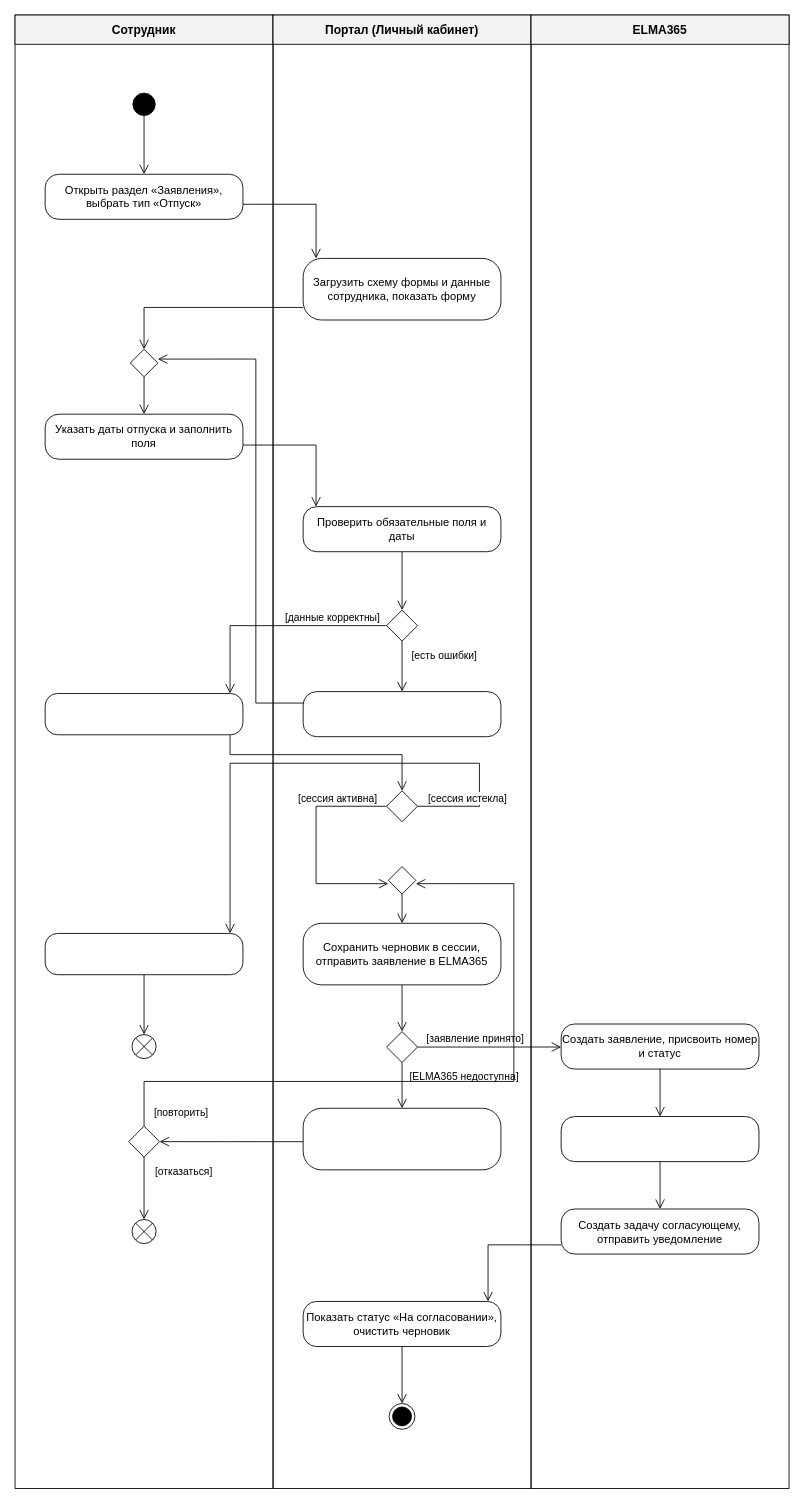
Some shapes in this 804 by 1504 pixel diagram are drawn without their labels. Each missing label, with the centre of its shape:
"Выделить поля с ошибками, заблокировать «Отправить»" belongs at point 401,714.
"Запустить маршрут, определить согласующего" belongs at point 659,1139.
"Перейти на страницу входа" belongs at point 143,954.
"Подтвердить отправку" belongs at point 143,714.
"Сообщить, что заявление не отправлено; данные остаются в форме" belongs at point 401,1138.
